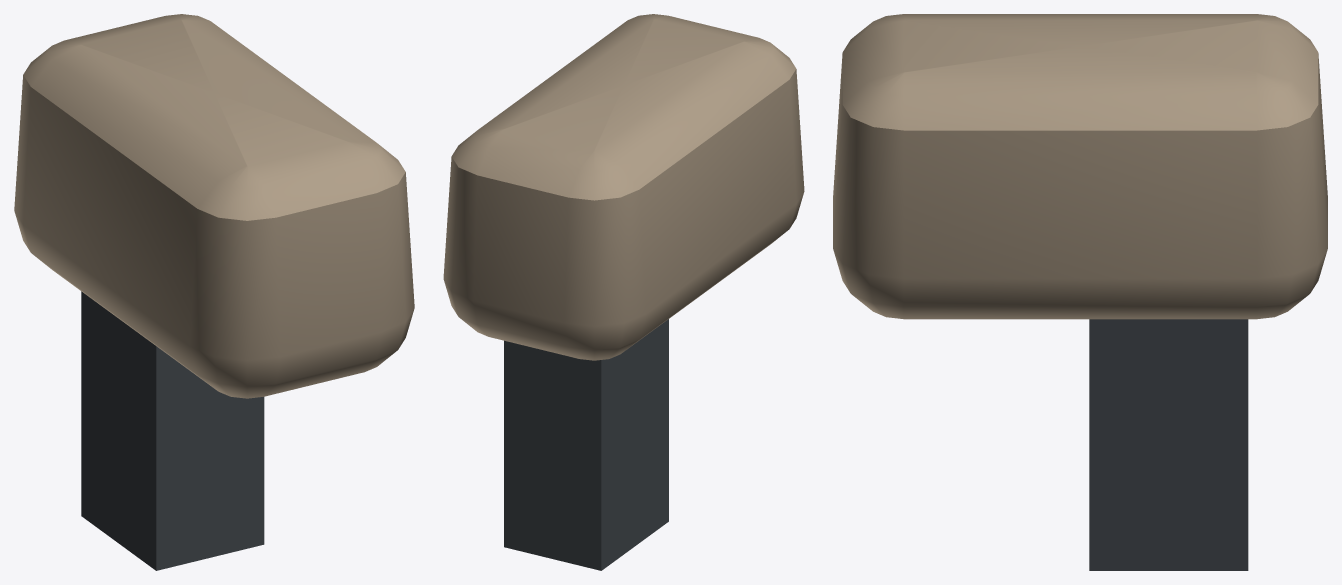
File: stock-car-oval-speedway-air-gun-a922774d__16946.glb
3 views of the same model, side by side, from view 1: azimuth 30°, elevation 25°; view 2: azimuth 150°, elevation 25°; view 3: azimuth 270°, elevation 25° (orthographic). The views are drawn at different scales.
Parts seen in each view (by area): view 1: air-gun; view 2: air-gun; view 3: air-gun.
Part boxes in pixels (left/top/right/bottom): air-gun: left=14, top=14, right=414, bottom=570; air-gun: left=443, top=14, right=804, bottom=570; air-gun: left=833, top=14, right=1327, bottom=570.
Size of the model in its own units: 0.15 by 0.31 by 0.28.
